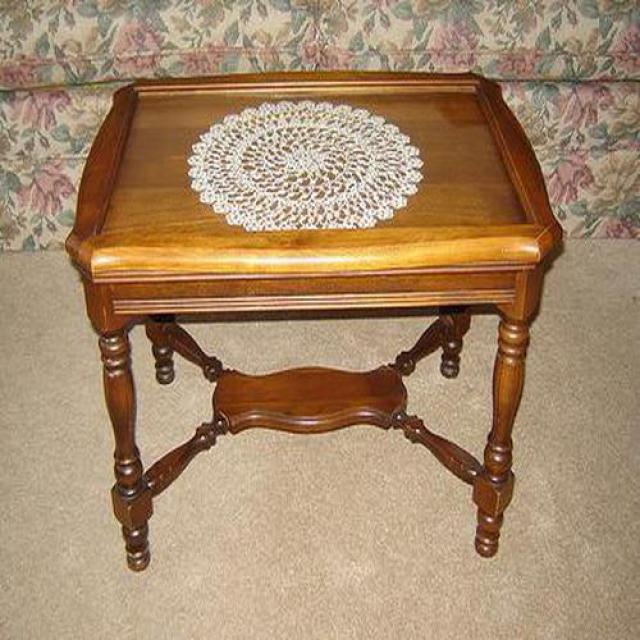table: (65, 70, 566, 575)
